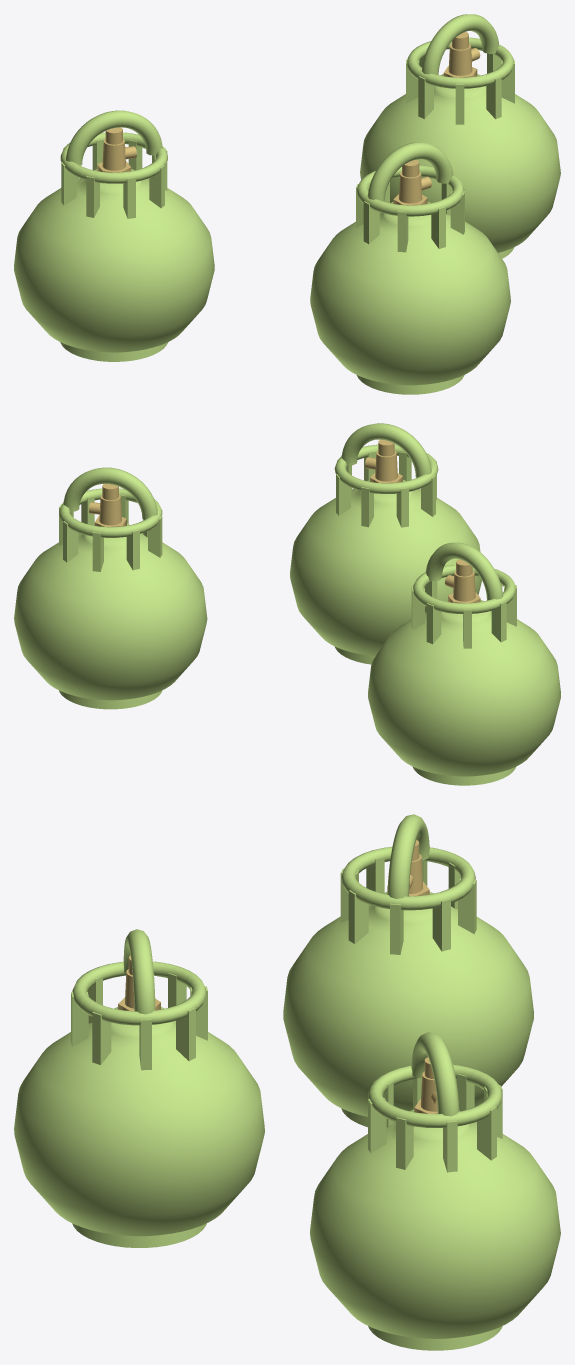
File: tabung_gas_3kg_x3.glb
3 views of the same model, one above another, from view 1: azimuth 30°, elevation 25°; view 2: azimuth 150°, elevation 25°; view 3: azimuth 270°, elevation 25° (orthographic). The views are drawn at different scales.
Parts seen in each view (by area): view 1: body (×3), grip (×3), ring_top (×3), valve_body (×3), foot (×2), post_4 (×3), post_2 (×3), post_1, post_3; view 2: body (×3), grip (×3), ring_top (×3), valve_body (×3), foot (×2), post_4 (×3), post_6 (×2), post_7 (×2), post_5 (×2); view 3: body (×3), ring_top (×3), grip (×3), foot (×2), post_1 (×3), post_7 (×3), post_2 (×2), post_0 (×2), post_6.
Part boxes in pixels (x1,y1,x2,y2): body (×3): (14, 74, 560, 385); grip (×3): (66, 14, 498, 201); ring_top (×3): (60, 37, 513, 216); valve_body (×3): (102, 44, 472, 203); foot (×2): (60, 342, 464, 394); post_4 (×3): (61, 76, 433, 244); post_2 (×3): (123, 76, 501, 248); post_1: (149, 165, 164, 208); post_3: (86, 176, 99, 217); body (×3): (14, 480, 560, 776); grip (×3): (63, 423, 503, 600); ring_top (×3): (59, 444, 515, 613); valve_body (×3): (99, 451, 475, 601); foot (×2): (59, 690, 515, 785); post_4 (×3): (148, 475, 506, 642); post_6 (×2): (361, 487, 441, 644); post_7 (×2): (63, 474, 350, 562); post_5 (×2): (126, 487, 408, 570); body (×3): (14, 892, 560, 1338); ring_top (×3): (72, 847, 502, 1127); grip (×3): (123, 814, 459, 1116); foot (×2): (72, 1223, 502, 1350); post_1 (×3): (92, 890, 413, 1169); post_7 (×3): (176, 898, 496, 1160); post_2 (×2): (71, 991, 386, 1153); post_0 (×2): (390, 903, 457, 1172); post_6: (458, 878, 476, 934).
Size of the model in its own units: 0.9208 by 0.377 by 0.6576.
